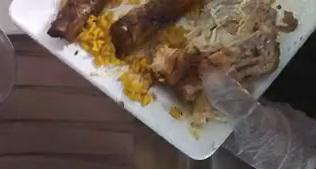ribs: (110, 0, 201, 59), (48, 0, 107, 43)
rice: (77, 11, 153, 106)
